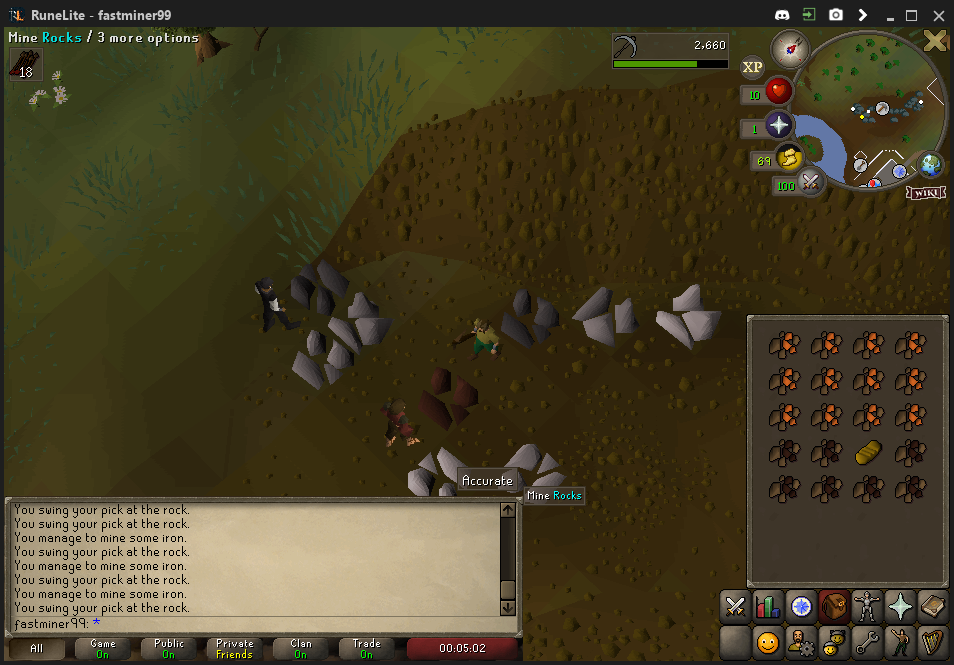depleted: (498, 292, 563, 345)
ore: (416, 364, 482, 426)
